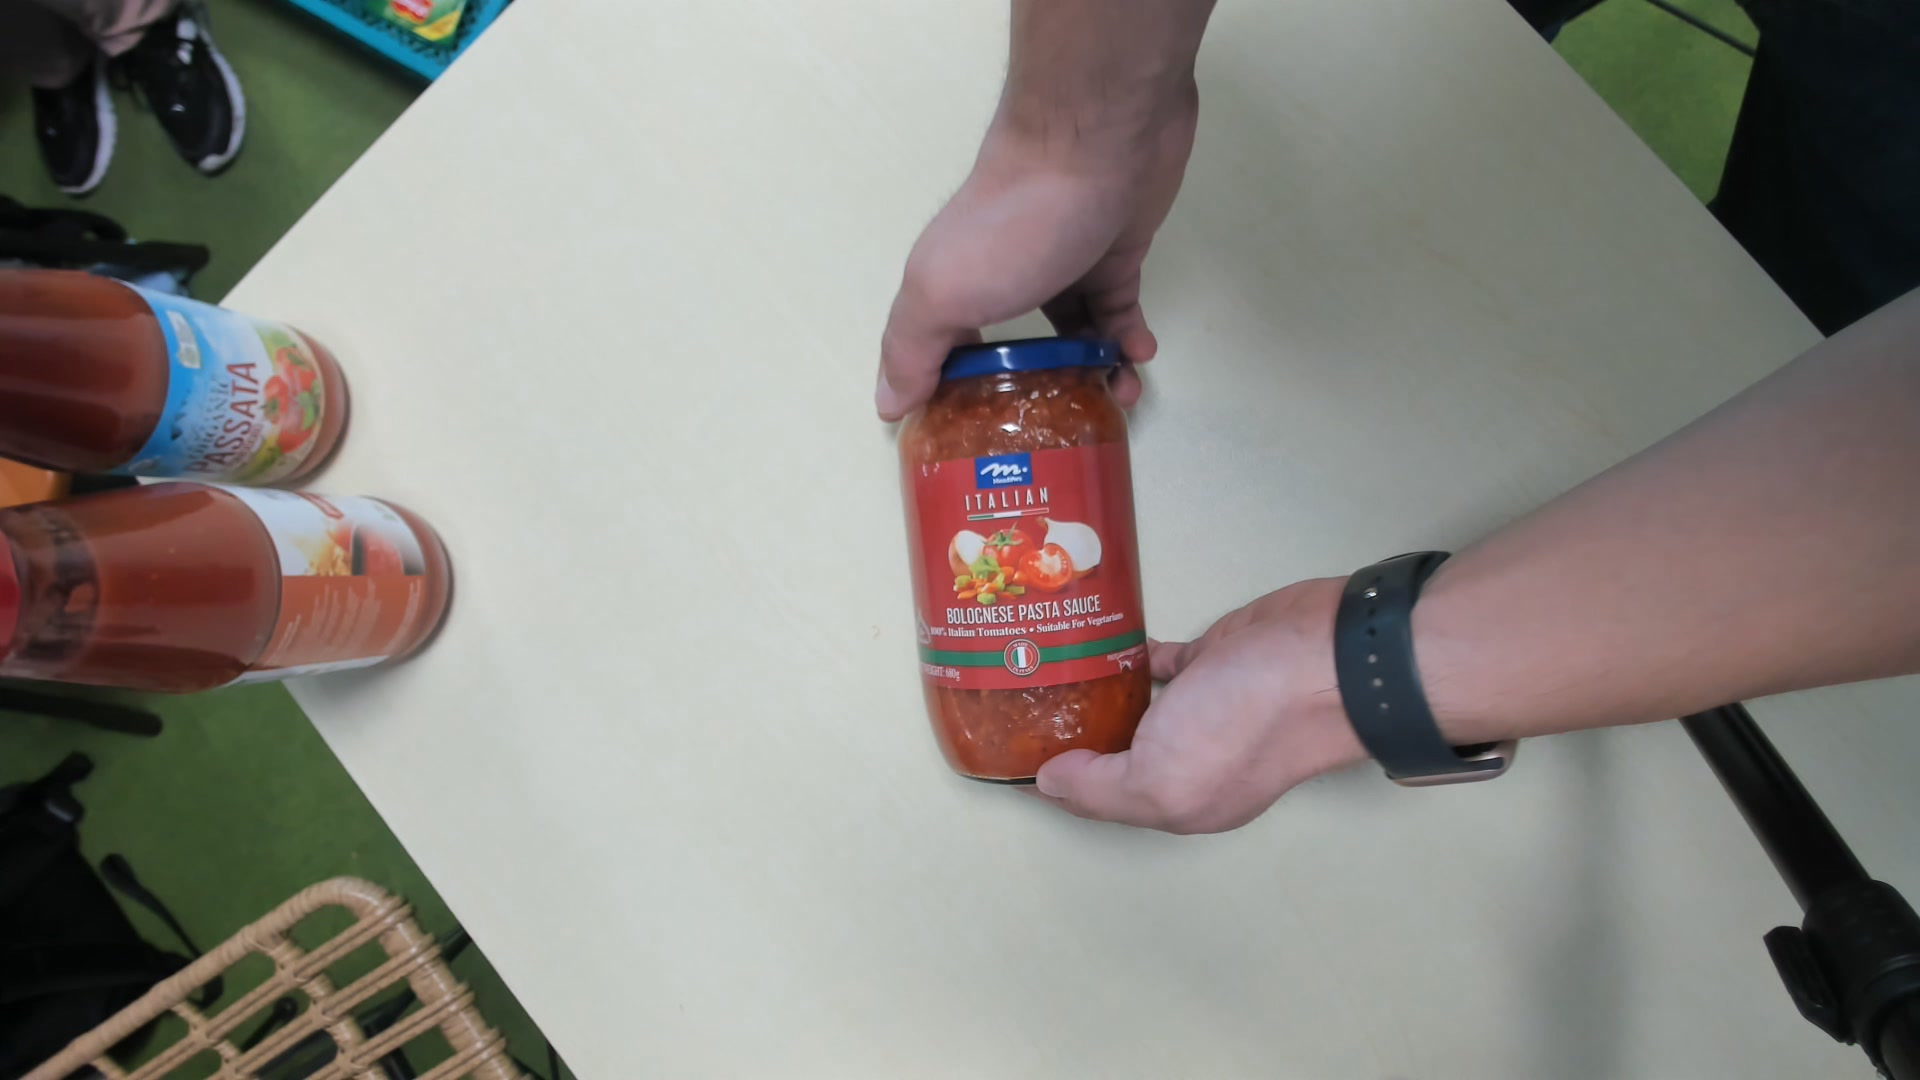PastaSauce_600-699g_Halal_NonHealthy: (898, 327, 1155, 781)
